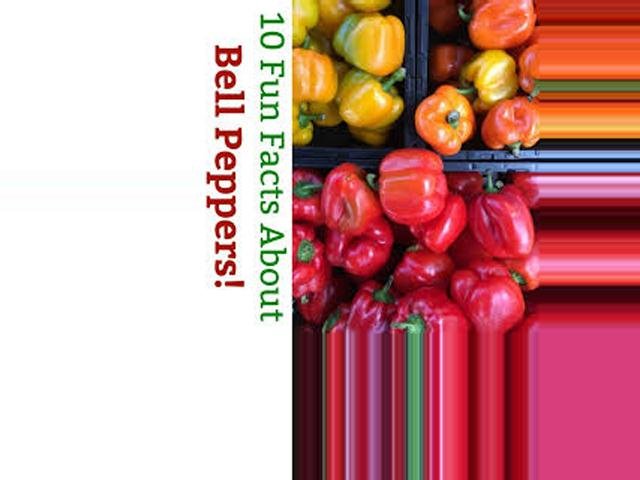bell_pepper: (280, 206, 339, 298)
